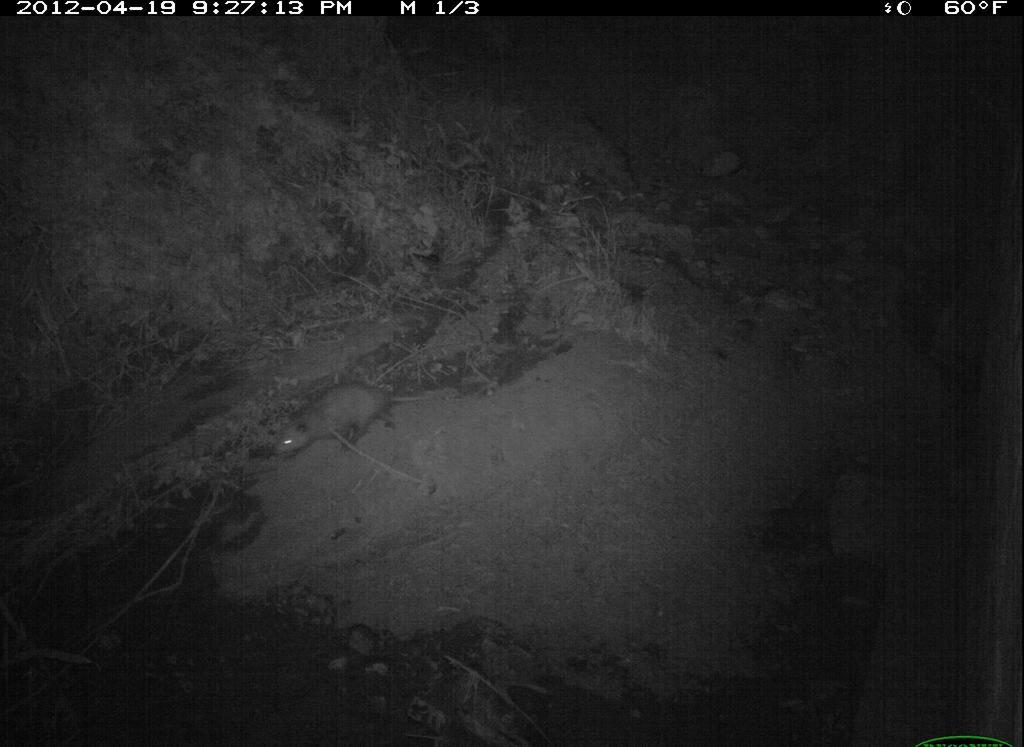opossum: (271, 376, 427, 481)
